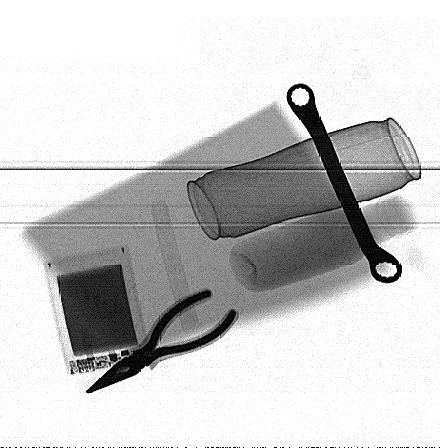Pliers: (83, 287, 238, 394)
Powerbank: (43, 244, 157, 378)
Wrench: (284, 82, 405, 284)
